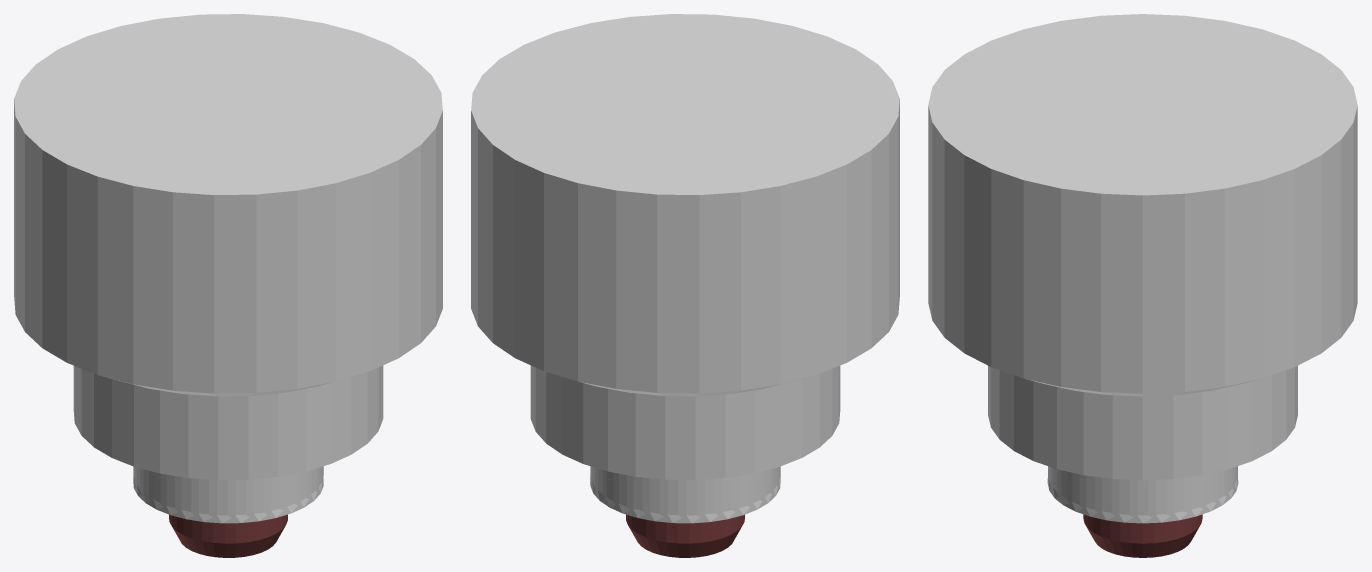
Rendered from blue_bottom.fbx.
The picture shows the model from 3 angles, left to right: view 1: azimuth 30°, elevation 25°; view 2: azimuth 150°, elevation 25°; view 3: azimuth 270°, elevation 25°; orthographic projection.
Visible parts, largest first — view 1: leg.top, leg.mid, leg.bottom, point; view 2: leg.top, leg.mid, leg.bottom, point; view 3: leg.top, leg.mid, leg.bottom, point.
Boxes of the visible parts, <box> form: leg.top: <box>14,14,442,396</box>; leg.mid: <box>73,365,383,479</box>; leg.bottom: <box>133,466,323,523</box>; point: <box>169,514,287,557</box>; leg.top: <box>471,14,899,396</box>; leg.mid: <box>530,365,840,479</box>; leg.bottom: <box>590,466,780,523</box>; point: <box>626,514,744,557</box>; leg.top: <box>928,14,1357,396</box>; leg.mid: <box>988,366,1297,480</box>; leg.bottom: <box>1047,466,1238,523</box>; point: <box>1083,514,1202,557</box>.
Bounding box in the file's own units: 360 × 400 × 360.
